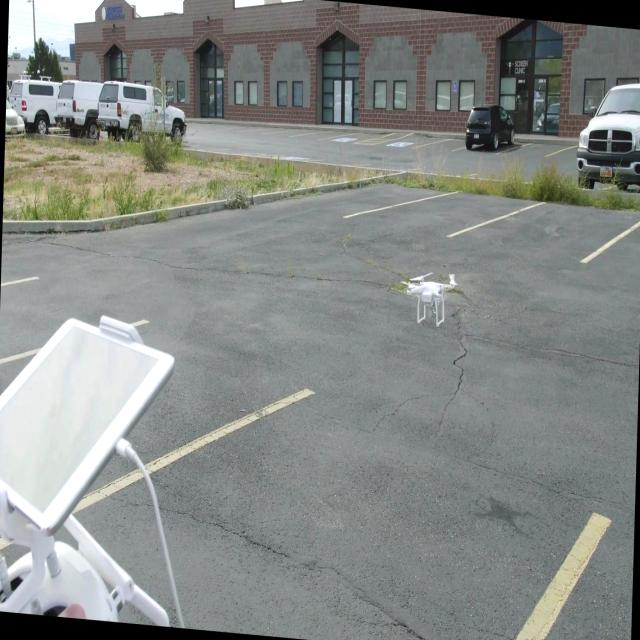drone: (400, 264, 458, 338)
